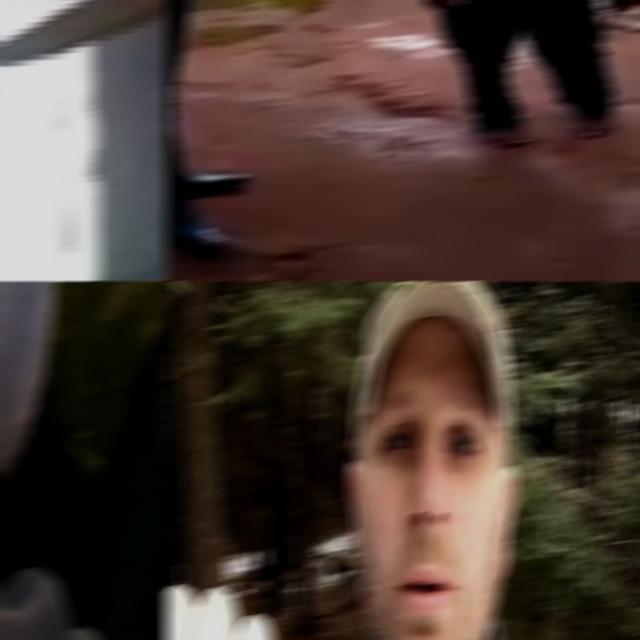Knife: (598, 4, 622, 32)
Knife_Handle: (0, 0, 168, 79), (595, 0, 640, 32)
